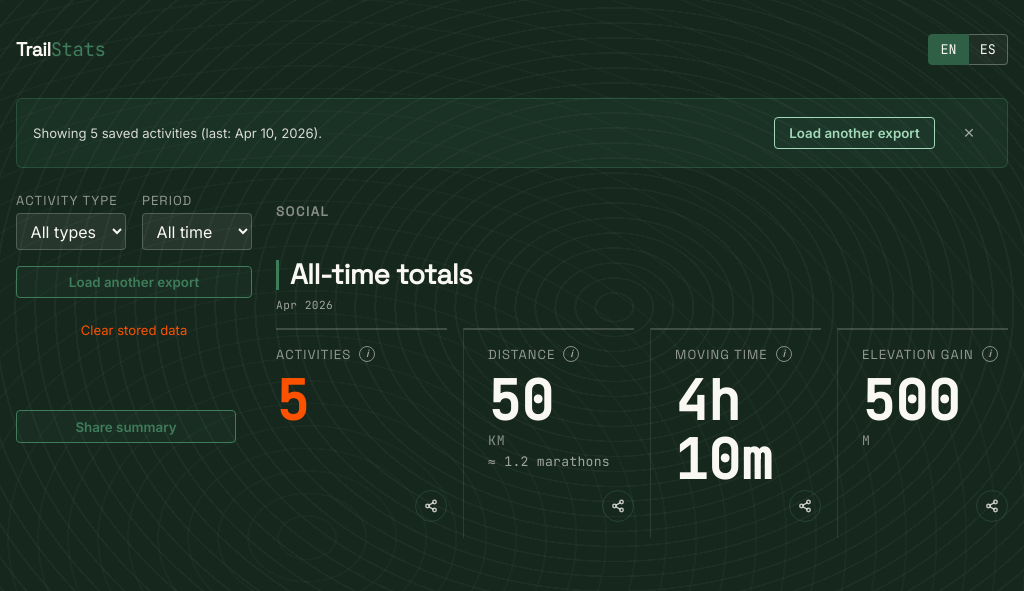
App — CacheBanner integration › hides the cache banner when the dismiss button is clicked
The image size is (1024, 591).
Click the button named "Dismiss": click(969, 133) [947,111,991,155]
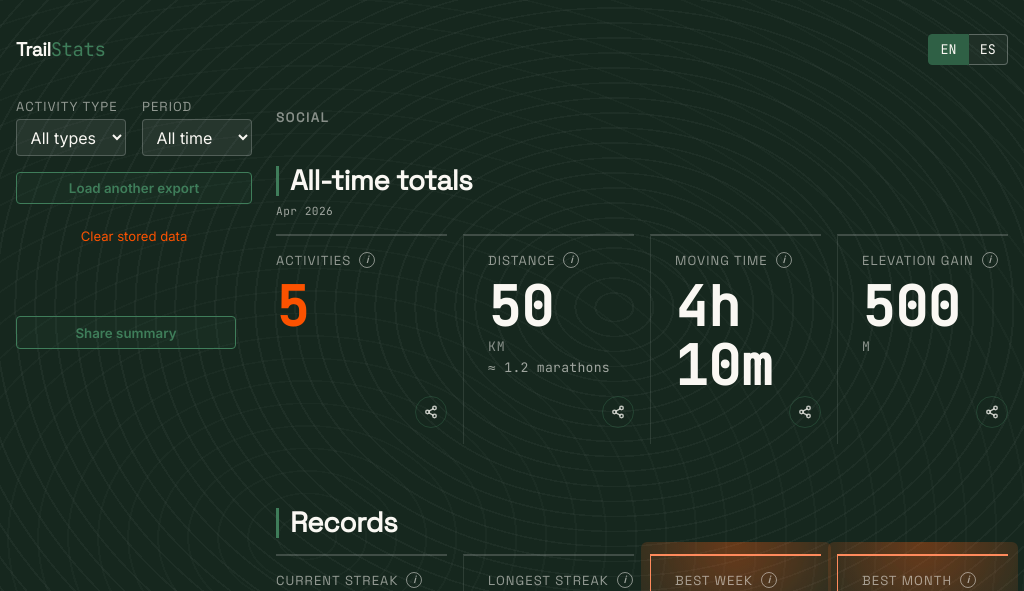
Now the message with class "cache-banner" is gone
Now the button "Dismiss" is gone
